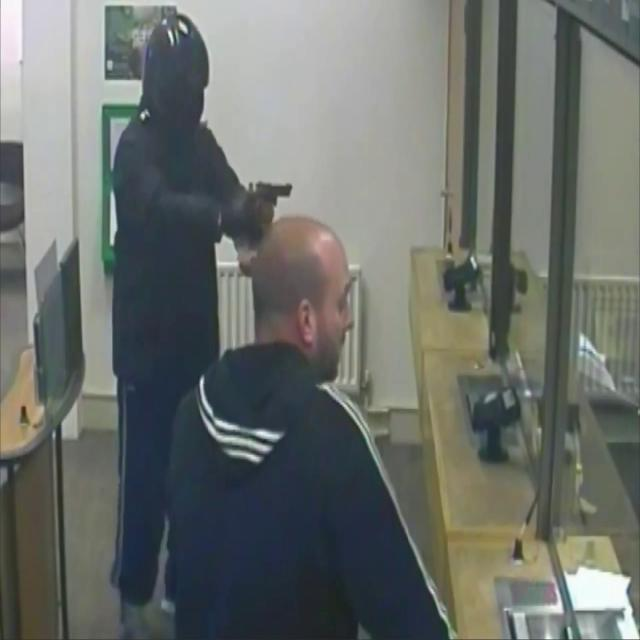Gun: (248, 180, 292, 242)
